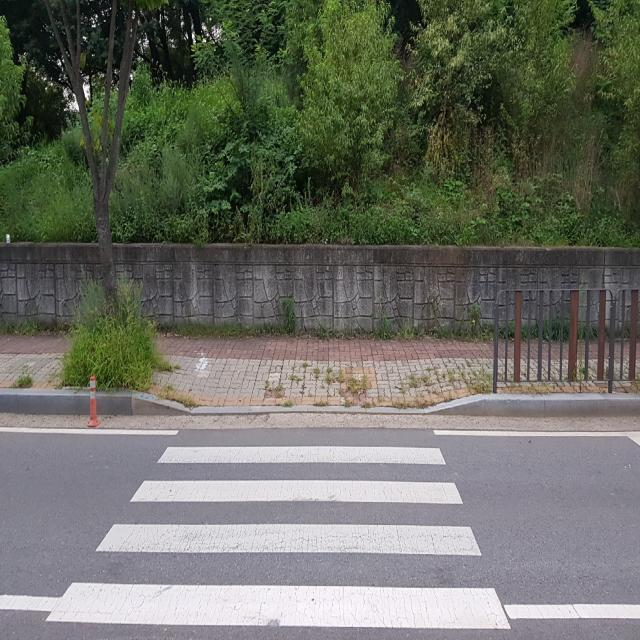횡단보도: (42, 441, 514, 634)
